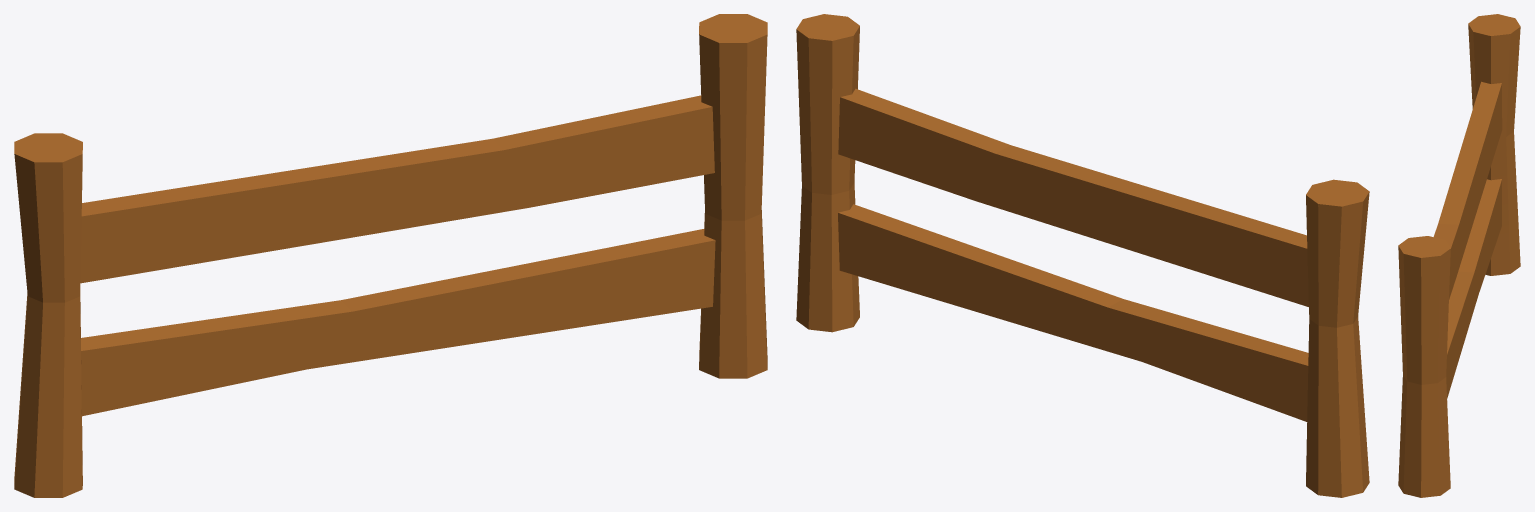
File: fence.obj
3 views of the same model, side by side, from view 1: azimuth 30°, elevation 25°; view 2: azimuth 150°, elevation 25°; view 3: azimuth 270°, elevation 25° (orthographic). The views are drawn at different scales.
Visible parts, largest first — view 1: WoodFence1; view 2: WoodFence1; view 3: WoodFence1.
Boxes of the visible parts, x1=… form: WoodFence1: x1=14, y1=14, x2=767, y2=497; WoodFence1: x1=796, y1=14, x2=1369, y2=497; WoodFence1: x1=1398, y1=14, x2=1520, y2=497.
Size of the model in its own units: 2.18 by 1 by 0.4621.
